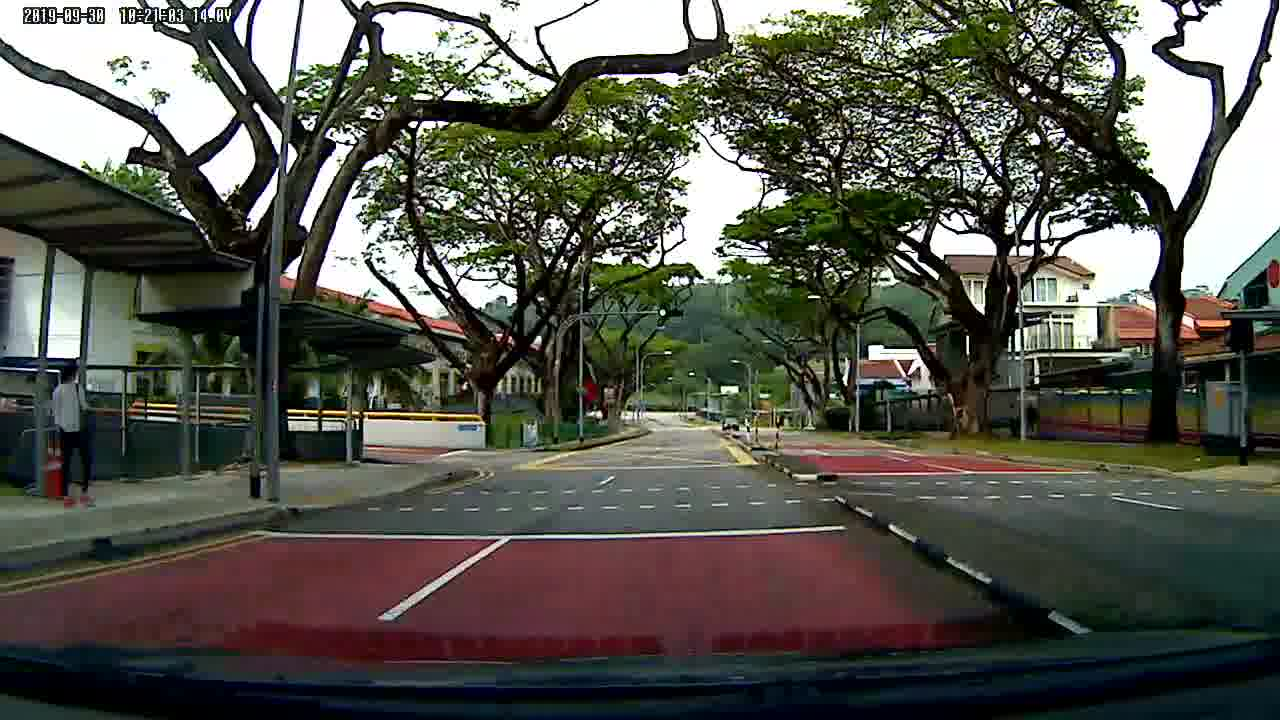car: (720, 414, 740, 431)
